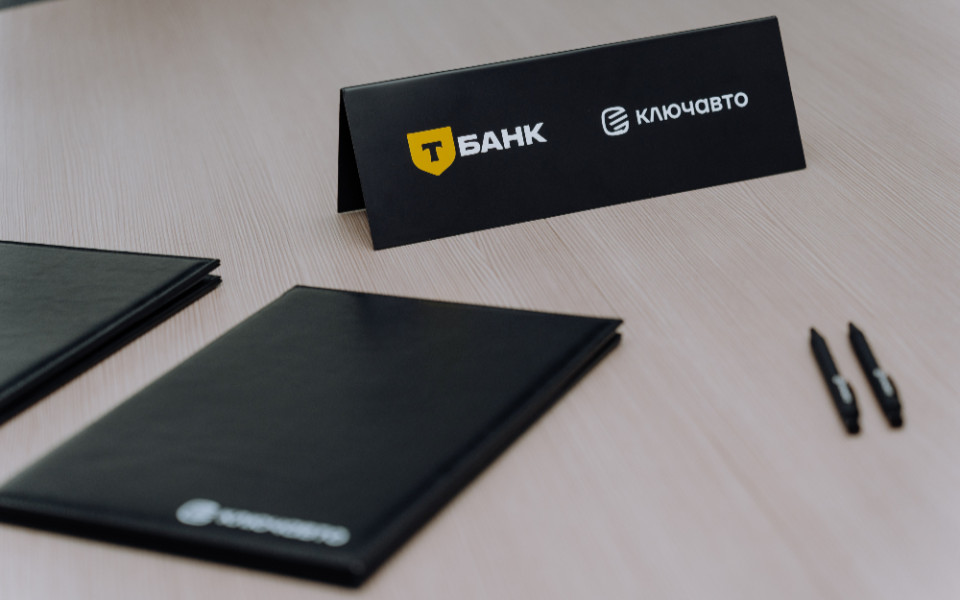TBank: (407, 127, 455, 176)
